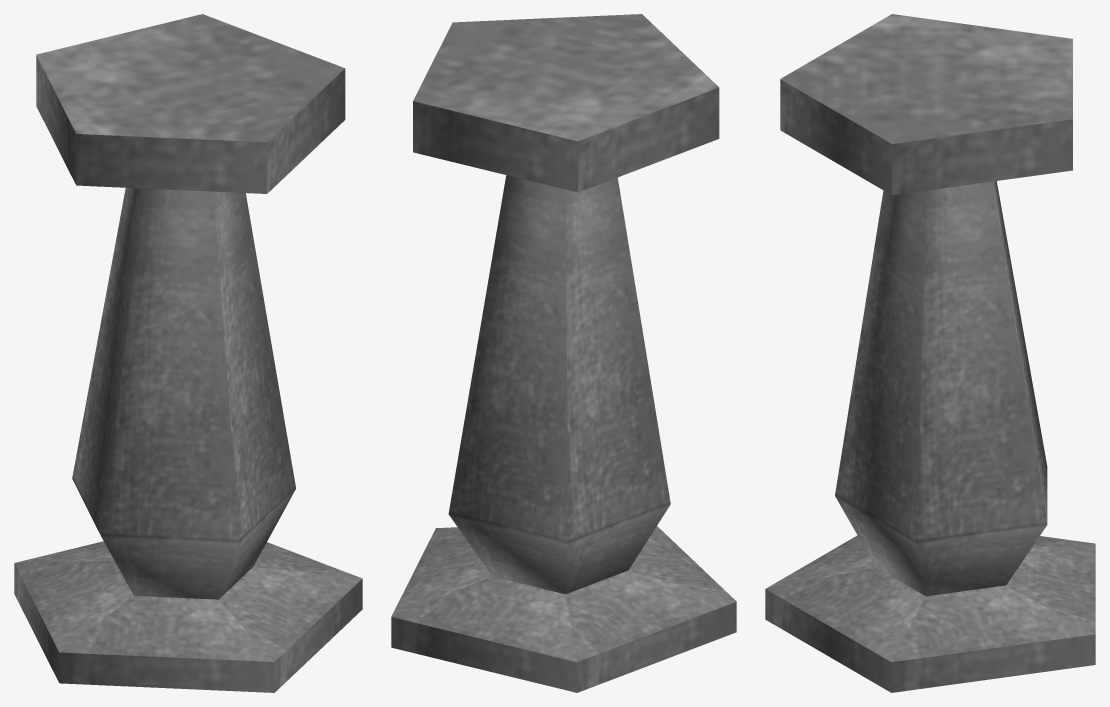
File: Pedistle.fbx
3 views of the same model, side by side, from view 1: azimuth 30°, elevation 25°; view 2: azimuth 150°, elevation 25°; view 3: azimuth 270°, elevation 25° (orthographic).
Parts seen in each view (by area): view 1: CandleStickHolder; view 2: CandleStickHolder; view 3: CandleStickHolder.
Part boxes in pixels (x1,y1,x2,y2): CandleStickHolder: (14, 14, 362, 692); CandleStickHolder: (391, 14, 736, 692); CandleStickHolder: (765, 14, 1095, 692).
Size of the model in its own units: 0.508 by 0.8724 by 0.4831.
